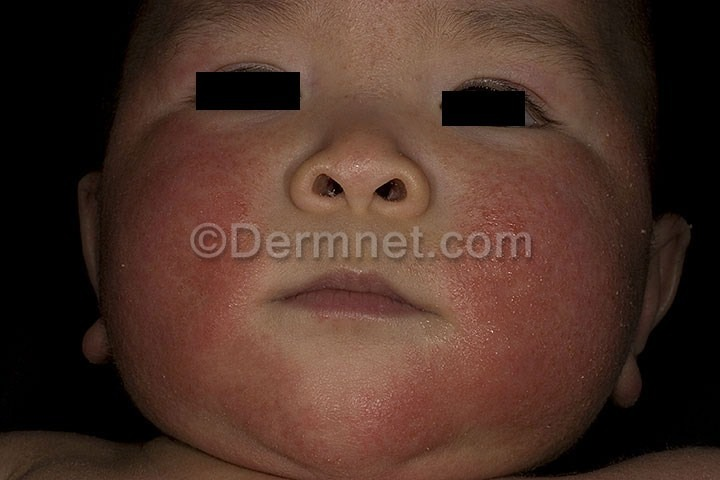Eczema: (444, 146, 644, 426), (118, 129, 291, 378), (237, 387, 442, 480), (333, 14, 430, 94)
